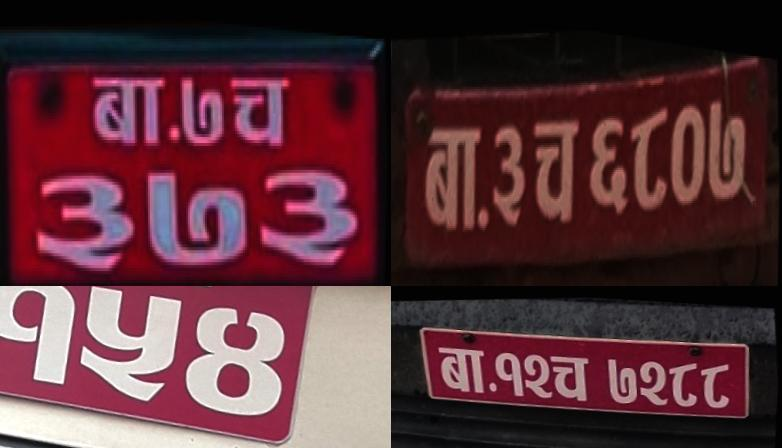0: (668, 81, 710, 214)
1: (0, 286, 88, 392), (490, 347, 528, 399)
2: (635, 350, 673, 407), (522, 348, 557, 399)
3: (253, 140, 364, 268), (32, 158, 131, 273), (485, 102, 530, 240)
4: (180, 286, 298, 421)
5: (72, 286, 196, 408)
6: (584, 93, 632, 217)
7: (141, 148, 255, 273), (705, 78, 752, 206), (176, 61, 228, 142), (604, 353, 644, 405)
8: (628, 86, 674, 216), (698, 350, 743, 406), (664, 350, 706, 406)
ba: (421, 103, 488, 247), (87, 60, 165, 149), (434, 340, 493, 399)
cha: (527, 97, 585, 234), (228, 56, 294, 154), (549, 345, 596, 403)
